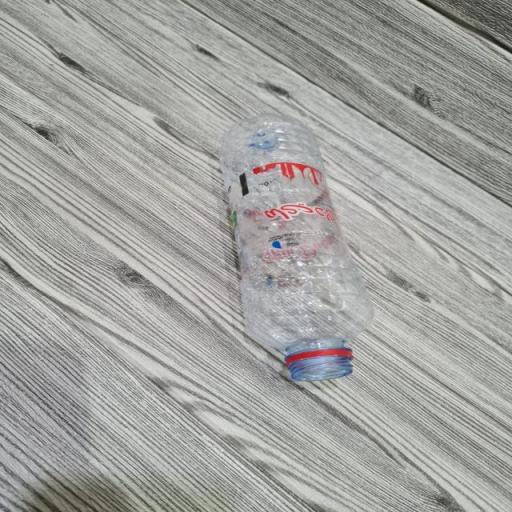plastic: (221, 119, 364, 380)
